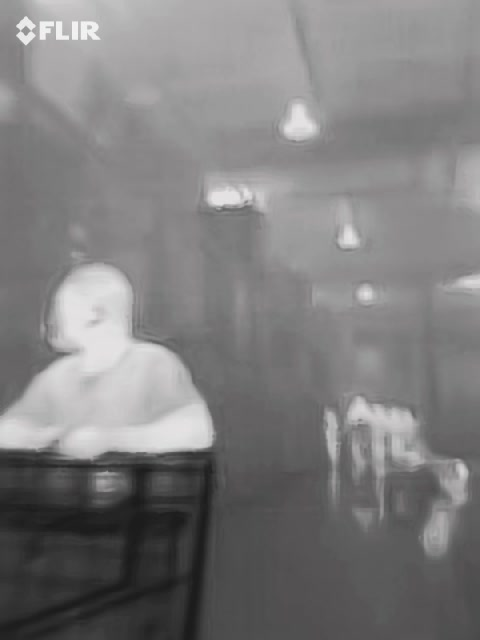head: (48, 260, 135, 357)
